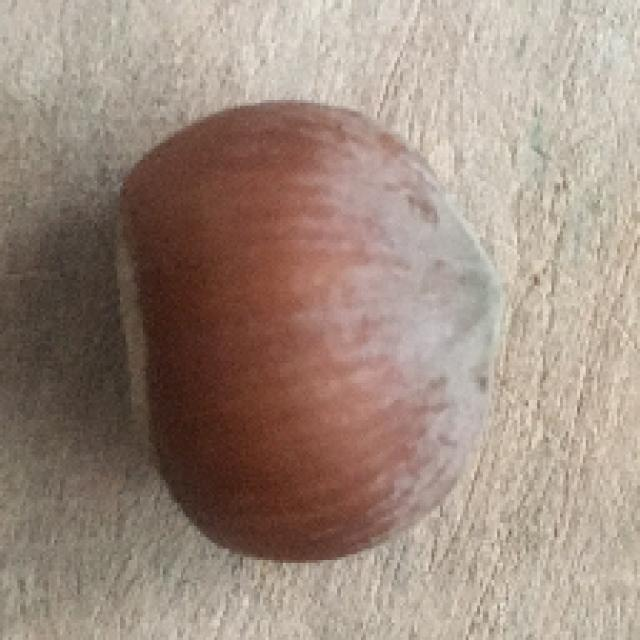qualityHazelnut: (77, 106, 503, 561)
